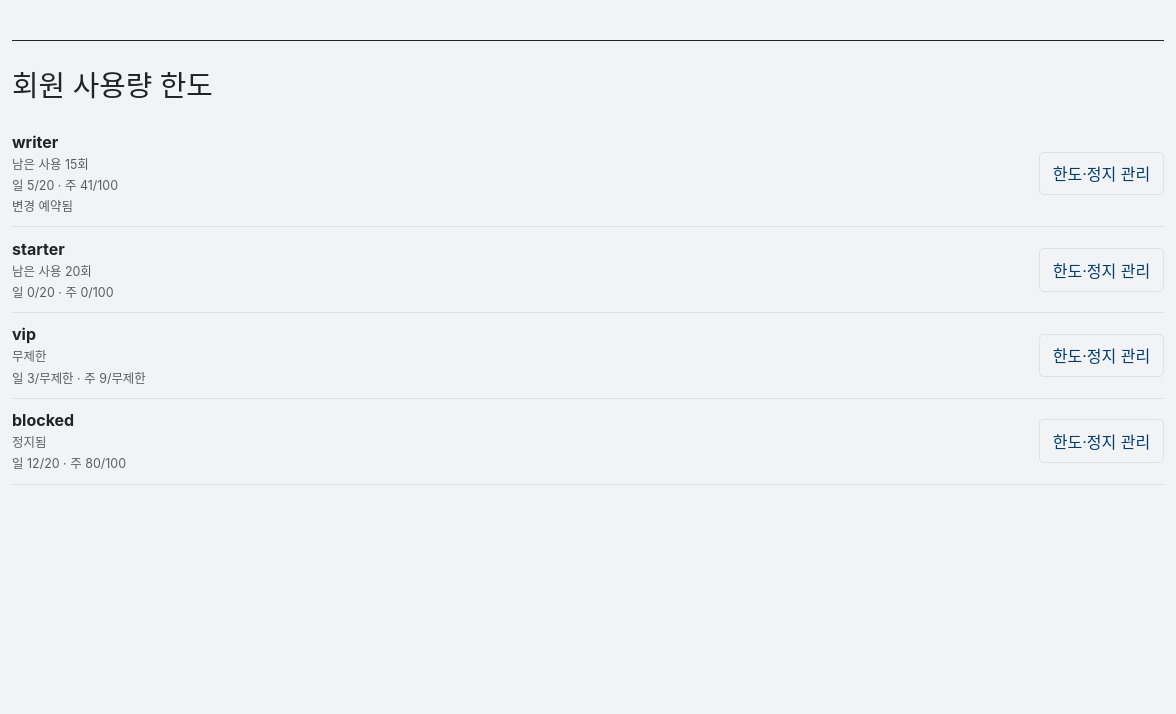
Test: MemberQuotaSection › shows a server 422 and re-reads the member after a failed change
The image size is (1176, 714).
Step 1. Click the button "한도·정지 관리" in the row of "남은 사용 15회" → (1102, 173), box [1039,152,1164,195]
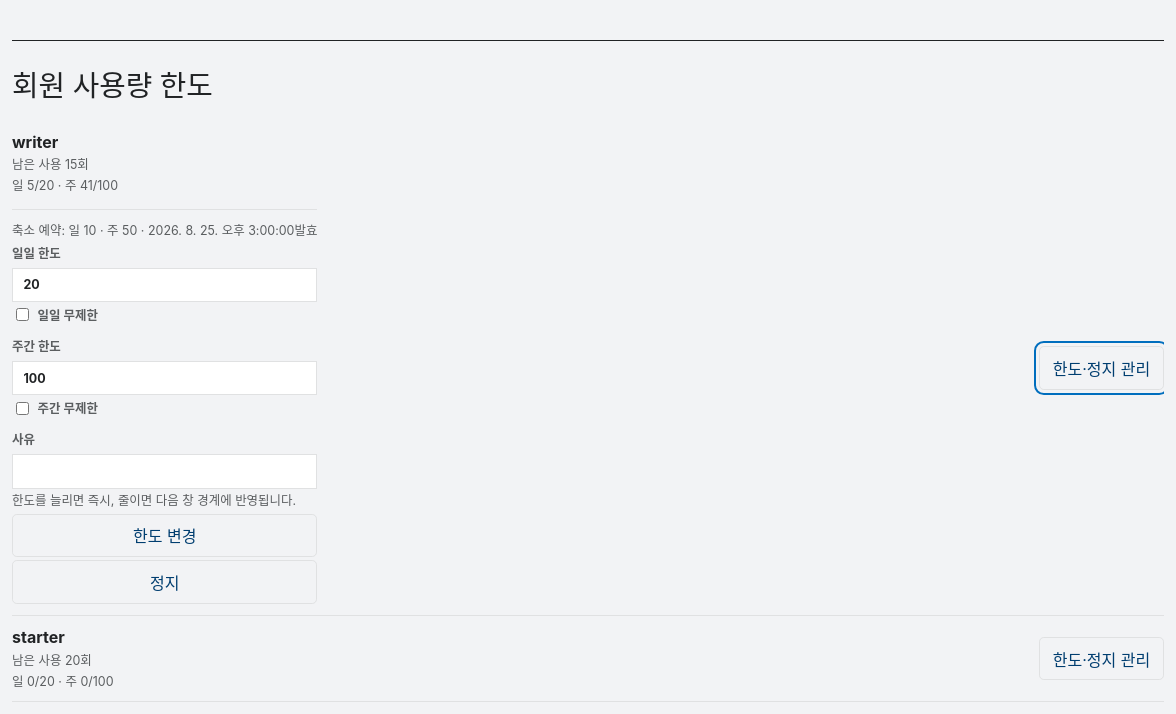
Step 2. Replace the text in the field labelled "일일 한도" with "7.5" → (165, 285), box [12,268,318,302]
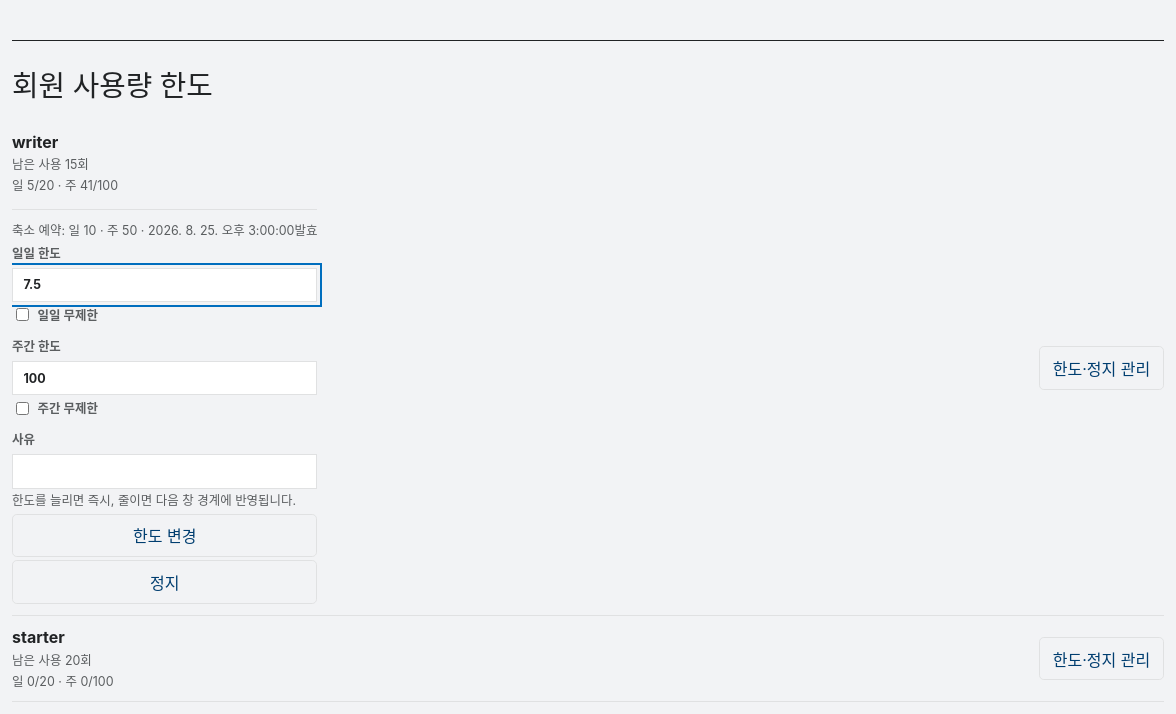
Step 3. Type "시험" into the field labelled "사유" → (165, 471), box [12,454,318,489]
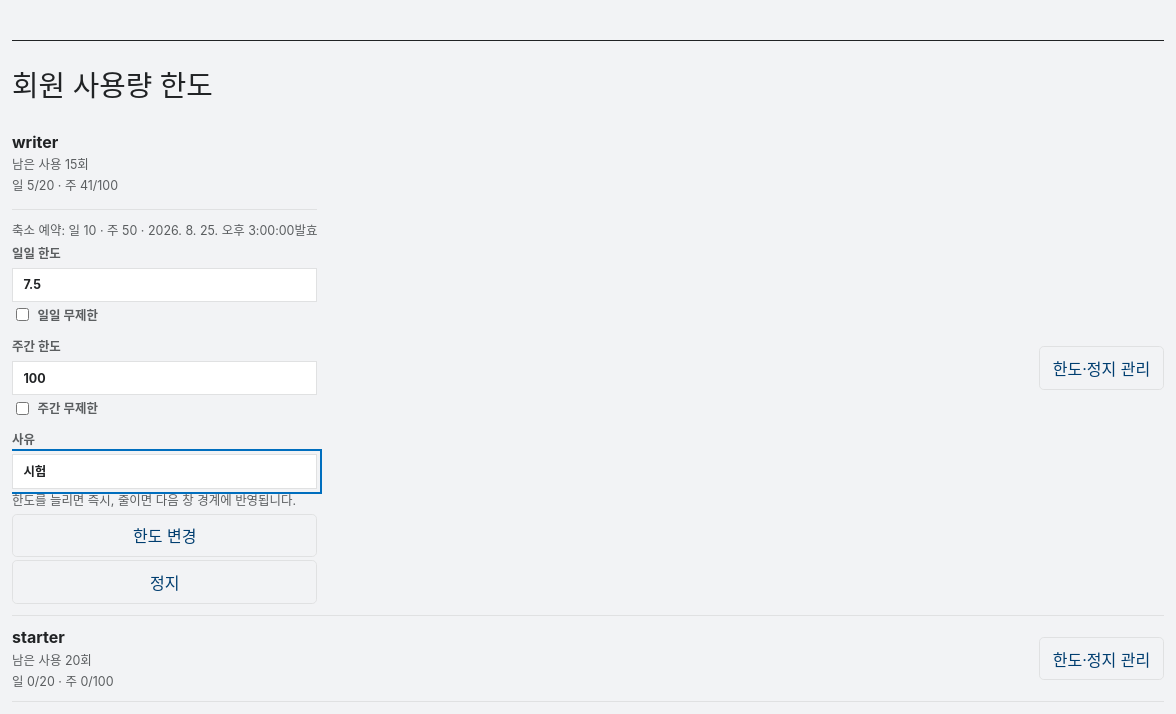
Step 4. Click the button "한도 변경" → (165, 535), box [12,514,318,557]
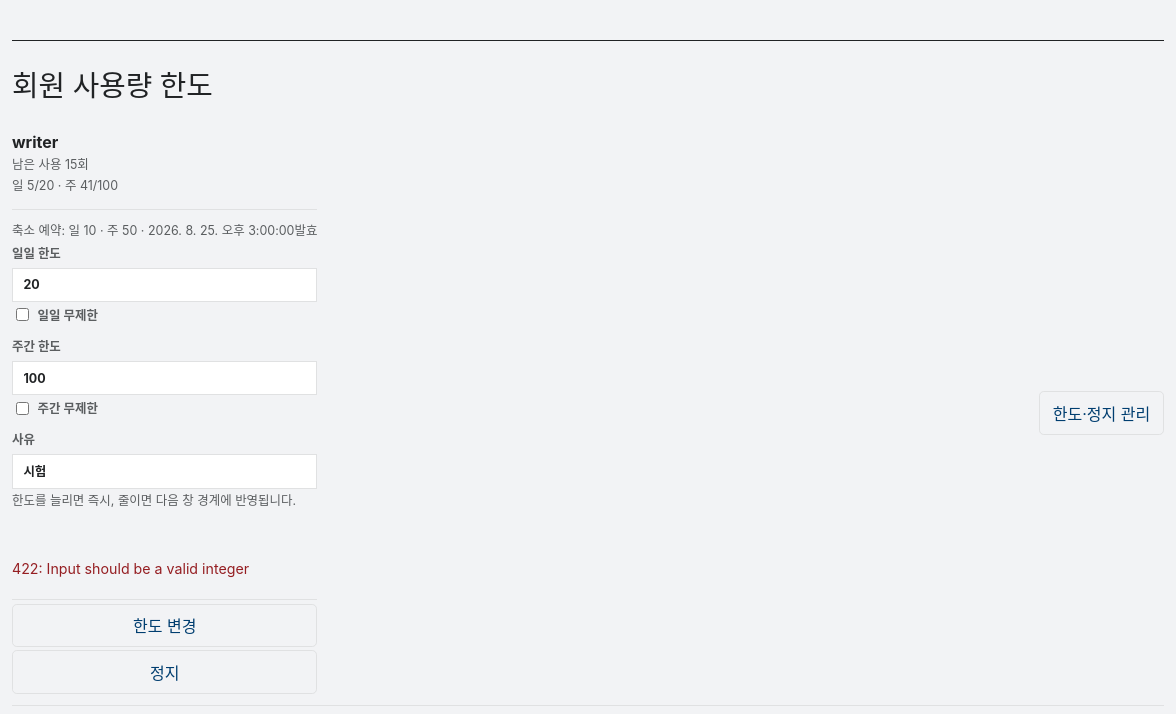
Check: the text "422: Input should be a valid integer" is shown, box [12,538,318,600]
Check: the field labelled "일일 한도" holds "20", box [12,268,318,302]
